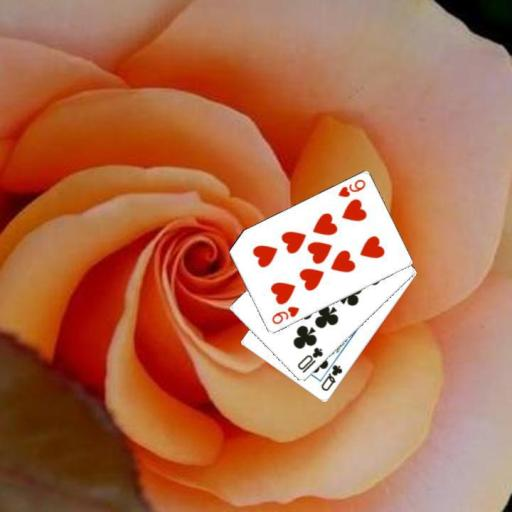10C: (294, 344, 325, 375)
9H: (335, 176, 367, 199), (268, 304, 301, 326)
QC: (318, 361, 344, 393)
